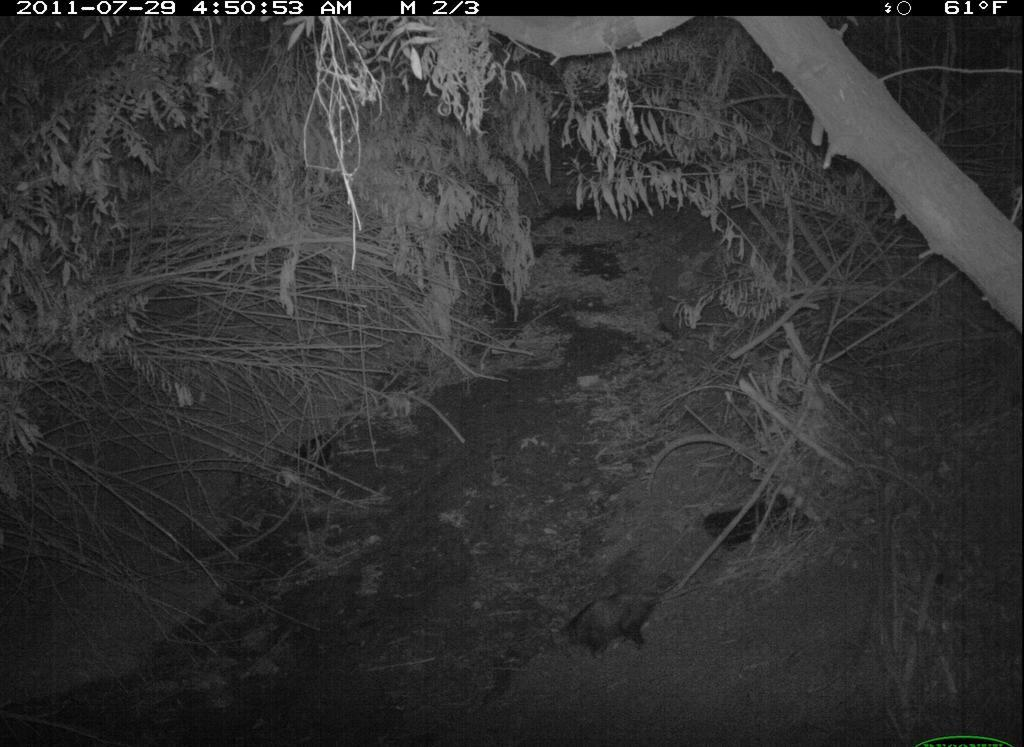opossum: (553, 579, 694, 666)
